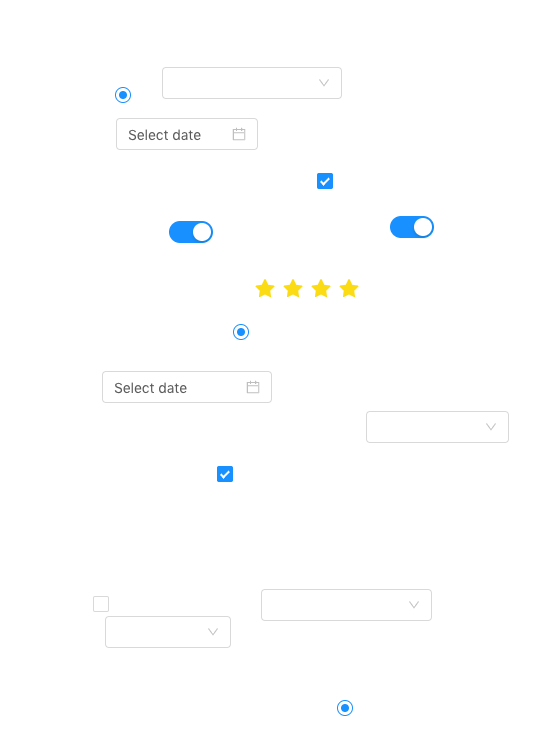Checkbox: (93, 593, 109, 614), (217, 463, 233, 484), (317, 170, 333, 191)
DatePicker: (102, 371, 272, 403), (116, 118, 258, 150)
Radio: (115, 84, 131, 104), (233, 321, 249, 341), (337, 697, 353, 717)
Rate: (255, 272, 375, 304)
Select: (162, 67, 342, 99), (261, 589, 432, 621), (366, 411, 509, 443), (105, 616, 231, 648)
Switch: (390, 215, 434, 239), (169, 220, 213, 244)
